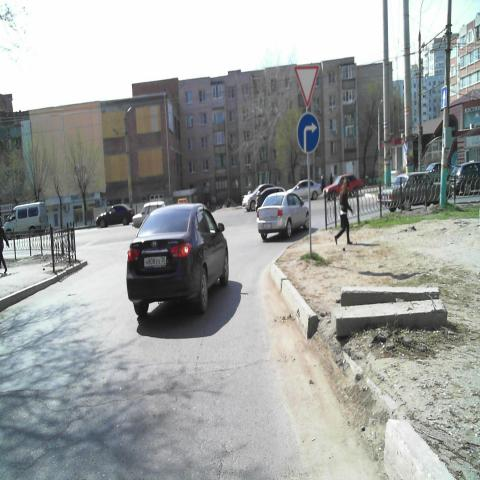4_1_2: (297, 112, 322, 154)
